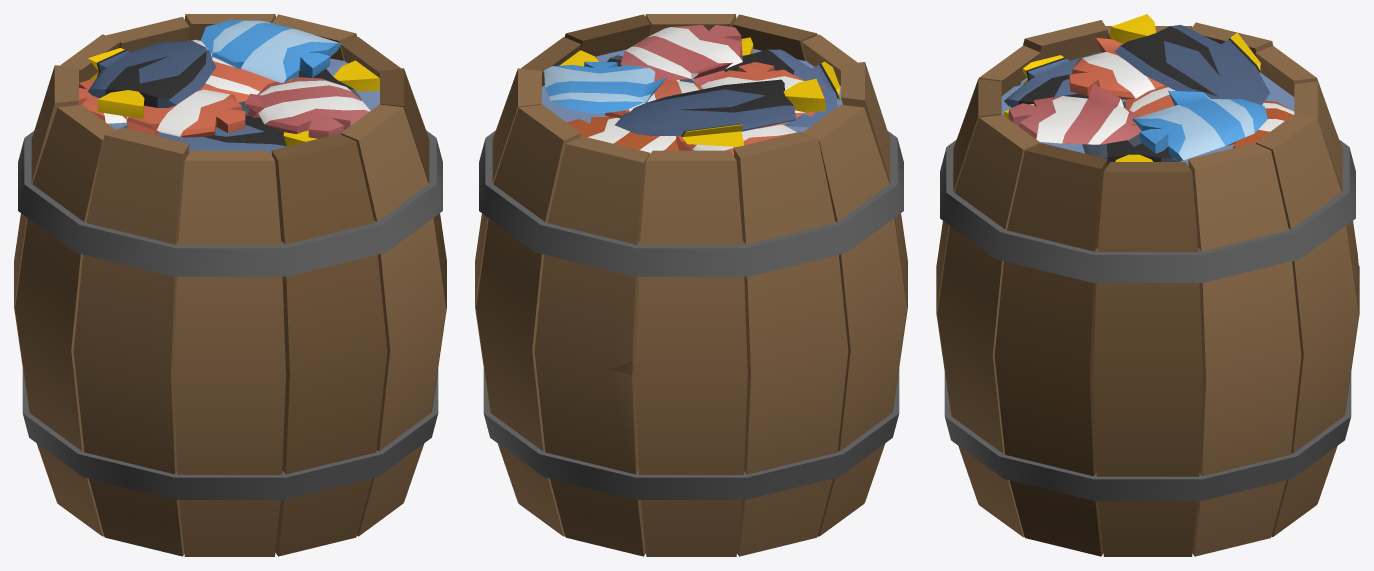
Rendered from Barrel_03.fbx.
The picture shows the model from 3 angles, left to right: view 1: azimuth 30°, elevation 25°; view 2: azimuth 150°, elevation 25°; view 3: azimuth 270°, elevation 25°; orthographic projection. The views are drawn at different scales.
Visible parts, largest first — view 1: Barrel_03_LOD0; view 2: Barrel_03_LOD0; view 3: Barrel_03_LOD0.
Boxes of the visible parts, box(x1,y1,x2,y2) form: Barrel_03_LOD0: box(14, 14, 446, 556); Barrel_03_LOD0: box(475, 14, 907, 556); Barrel_03_LOD0: box(936, 14, 1359, 556).
Size of what is drawn, in the model's own units: 0.7488 by 0.7959 by 0.7488.
